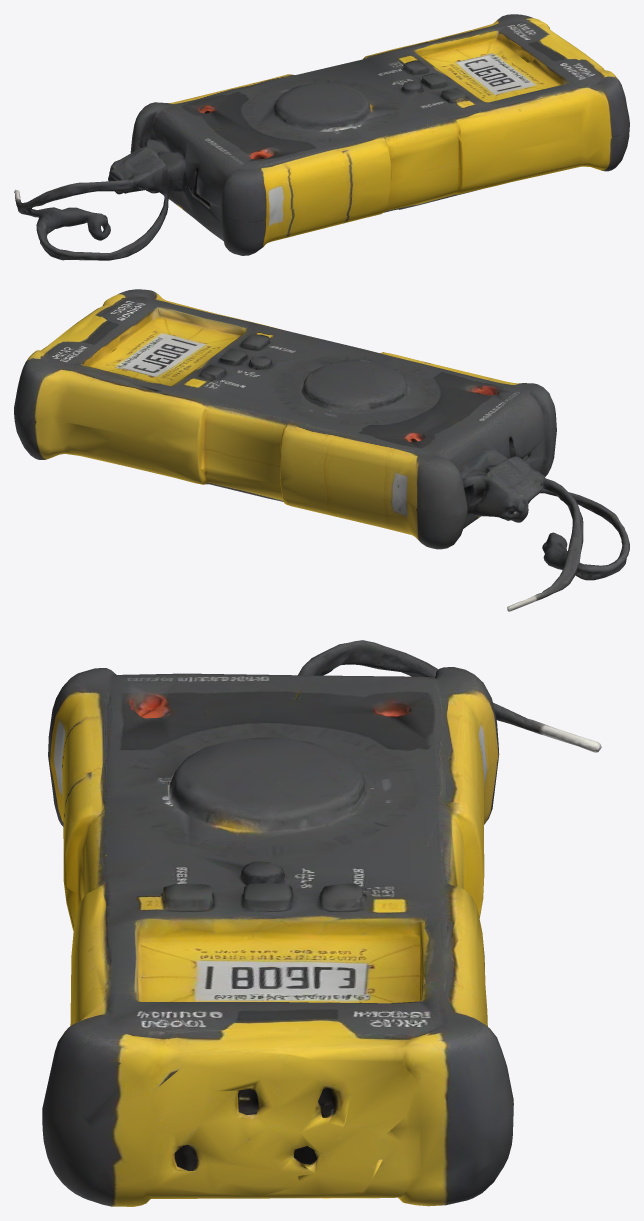
3 renders of one model, top to bottom at view 1: azimuth 30°, elevation 25°; view 2: azimuth 150°, elevation 25°; view 3: azimuth 270°, elevation 25°, orthographic. The views are drawn at different scales.
Bounding box in the file's own units: 2 × 0.3805 × 0.9273.
1 material, 1 textured.
